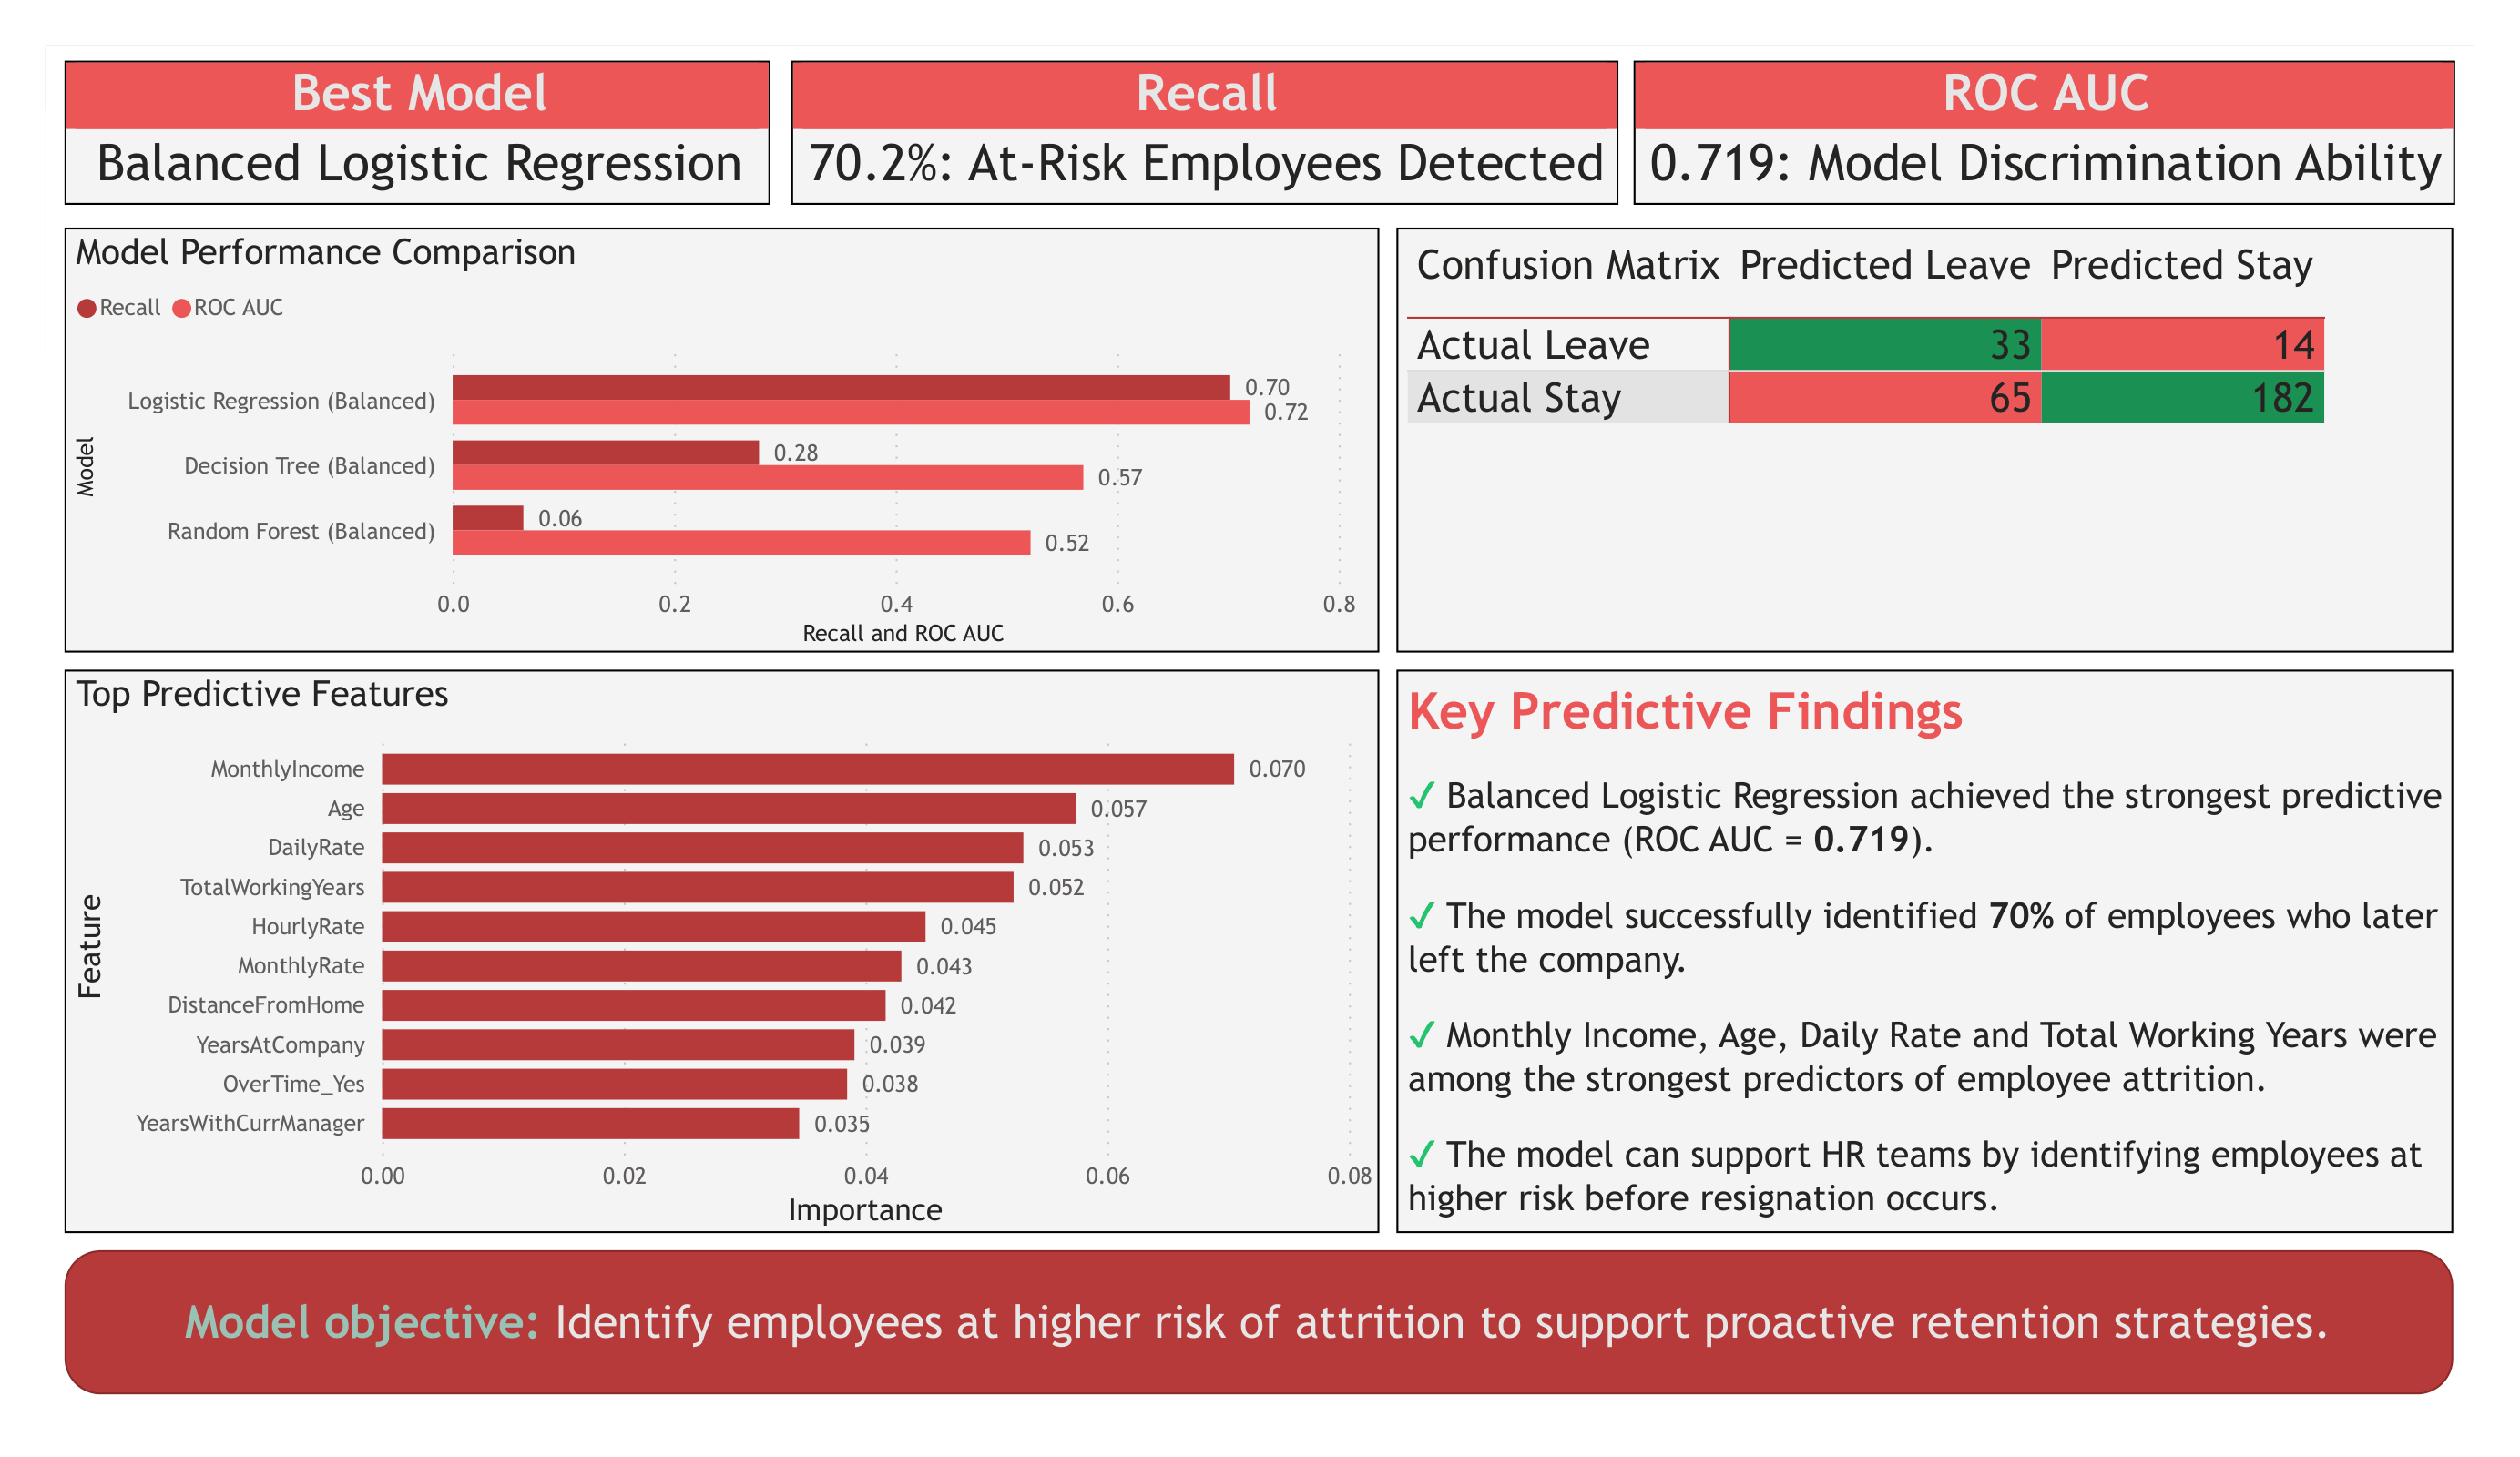

The page's visual inventory and layout, read from the dashboard file:
{"tool":"powerbi","page":{"name":"Attrition Risk Prediction","canvas":[1280,720],"ordinal":2},"visuals":[{"type":"card","title":"Best Model","fields":{"Values":["clean_hr_attrition.Best Model"]},"box":[9.6,8.4,372.7,76],"z":0},{"type":"card","title":"Recall","fields":{"Values":["clean_hr_attrition.Recall"]},"box":[393.2,8.4,435.4,76],"z":1000},{"type":"card","title":"ROC AUC","fields":{"Values":["clean_hr_attrition.ROC AUC"]},"box":[837,8.4,433,76],"z":2000},{"type":"clusteredBarChart","title":"Model Performance Comparison","fields":{"Category":["model_comparison.Model"],"Y":["Sum(model_comparison.Recall)","Sum(model_comparison.ROC AUC)"]},"box":[9.6,96.1,693,223.7],"z":3000},{"type":"barChart","title":"Top Predictive Features","fields":{"Category":["feature_importance.Feature"],"Y":["Sum(feature_importance.Importance)"]},"box":[9.6,329.3,693,296.4],"z":4000},{"type":"pivotTable","fields":{"Values":["Sum(confusion_matrix.Predicted Leave)","Sum(confusion_matrix.Predicted Stay)"],"Rows":["confusion_matrix.Column1"]},"box":[712.2,96.1,557.1,223.7],"z":5000},{"type":"textbox","box":[712.2,329.3,557.1,296.4],"z":6000},{"type":"shape","box":[9.6,635.3,1259.7,75.5],"z":7000},{"type":"textbox","box":[64.5,653.2,1149.9,41.2],"z":8000}]}

Visuals, with their boxes on the page's 1280x720 design canvas (x1, y1, x2, y2). These are canvas units, not pixel positions in the 2520x1457 screenshot, which may show the page scaled, cropped or inside an application window:
"Best Model" card: bbox(10, 8, 382, 84)
"Recall" card: bbox(393, 8, 829, 84)
"ROC AUC" card: bbox(837, 8, 1270, 84)
"Model Performance Comparison" clusteredBarChart: bbox(10, 96, 703, 320)
"Top Predictive Features" barChart: bbox(10, 329, 703, 626)
pivotTable - Sum(confusion_matrix.Predicted Leave) x Sum(confusion_matrix.Predicted Stay): bbox(712, 96, 1269, 320)
textbox: bbox(712, 329, 1269, 626)
shape: bbox(10, 635, 1269, 711)
textbox: bbox(64, 653, 1214, 694)
